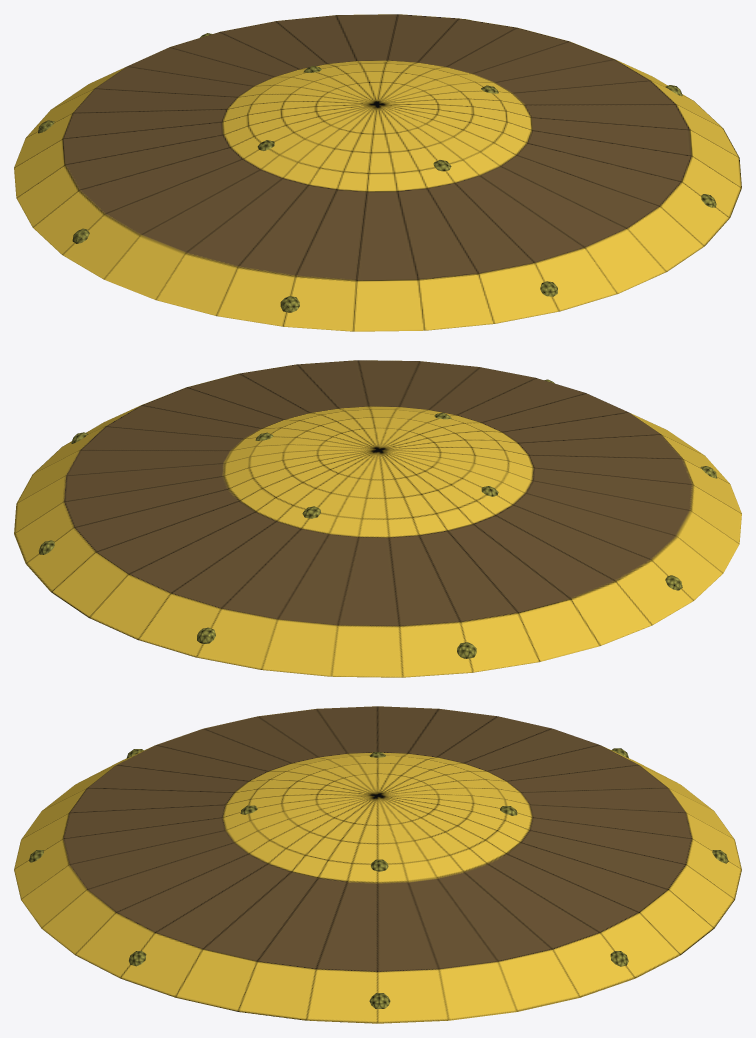
Rendered from grshield.dae.
3 renders of one model, top to bottom at view 1: azimuth 30°, elevation 25°; view 2: azimuth 150°, elevation 25°; view 3: azimuth 270°, elevation 25°, orthographic.
Parts seen in each view (by area): view 1: smrshield; view 2: smrshield; view 3: smrshield.
Boxes of the visible parts, x1,y1,x2,y2 form: smrshield: (14,14,741,331); smrshield: (14,360,741,677); smrshield: (14,706,741,1023).
Bounding box in the file's own units: 0.5533 × 0.5533 × 0.062.
Materials: 1 (1 with a texture image).
